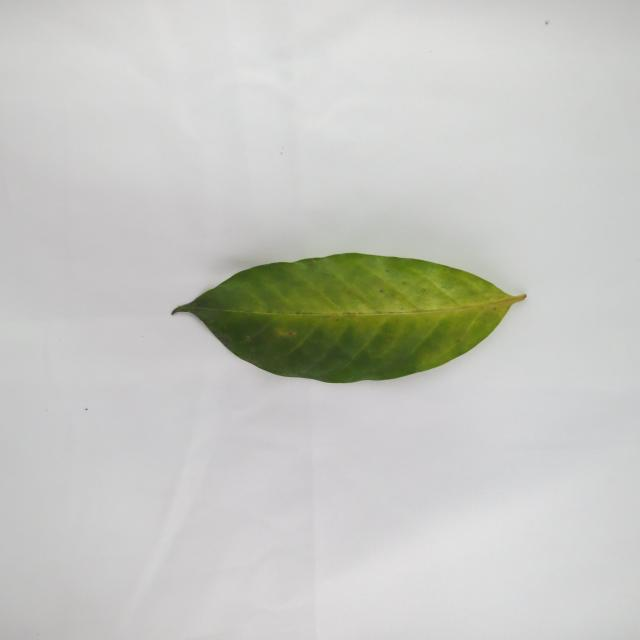DeficienciaNutricional-Nitrogeno: (181, 255, 504, 378)
